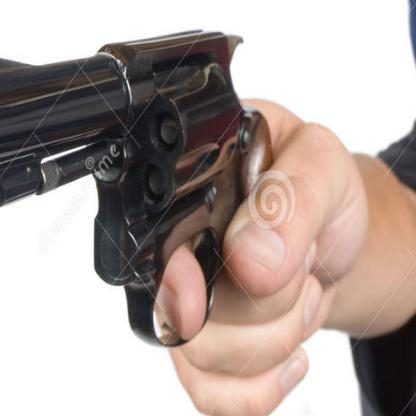gun: (0, 10, 285, 346)
